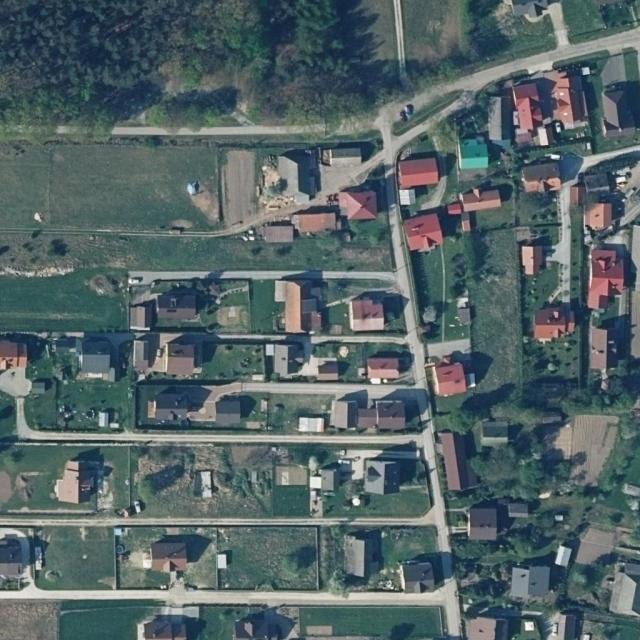aerial-img: (0, 144, 219, 231)
building: (274, 277, 325, 334), (525, 299, 580, 346), (587, 248, 626, 311), (55, 459, 103, 504), (284, 148, 320, 199), (344, 530, 383, 577), (403, 211, 445, 253), (78, 338, 117, 381), (610, 562, 640, 616), (165, 334, 202, 374), (520, 161, 562, 195), (396, 157, 439, 189), (439, 431, 461, 491), (510, 566, 550, 599), (459, 138, 489, 181), (148, 391, 189, 422), (365, 460, 401, 495), (432, 362, 468, 397), (567, 74, 590, 128), (460, 185, 503, 213), (350, 297, 384, 332), (400, 561, 435, 594), (150, 542, 187, 573), (552, 77, 574, 129), (157, 292, 198, 319), (339, 191, 376, 220), (291, 212, 336, 234), (469, 507, 498, 541), (274, 344, 304, 376), (589, 327, 609, 372), (376, 400, 405, 431), (0, 539, 24, 576), (277, 155, 299, 195), (453, 432, 468, 490), (0, 340, 28, 371), (330, 400, 358, 429), (129, 300, 155, 331), (215, 398, 241, 428), (585, 202, 612, 230), (487, 96, 503, 143), (601, 91, 620, 130), (367, 357, 399, 380), (321, 148, 361, 166), (521, 246, 544, 275), (584, 172, 610, 197), (501, 95, 515, 141), (512, 82, 539, 105), (516, 97, 533, 130), (262, 225, 293, 243), (132, 340, 149, 372), (194, 470, 213, 498), (356, 407, 378, 430), (320, 468, 341, 492), (317, 360, 339, 381), (298, 417, 325, 433), (555, 545, 573, 568), (507, 502, 529, 518), (570, 185, 585, 206), (531, 101, 543, 125), (536, 125, 549, 146), (456, 307, 471, 325), (446, 202, 463, 216), (461, 212, 470, 232), (216, 554, 226, 568)
dryland: (542, 398, 625, 492), (222, 150, 256, 226), (575, 525, 618, 569)
greenland: (468, 428, 574, 511), (451, 532, 561, 568), (561, 545, 619, 612), (409, 248, 451, 340), (598, 412, 640, 492), (577, 485, 640, 538), (460, 0, 510, 63), (455, 554, 513, 606), (407, 53, 461, 88), (443, 236, 472, 300), (527, 501, 567, 542)
unmetalled_road: (0, 579, 460, 633), (376, 164, 433, 391), (0, 512, 434, 531), (27, 429, 420, 446), (419, 420, 457, 581), (129, 269, 395, 286), (365, 112, 429, 174), (0, 225, 250, 240), (238, 380, 410, 401), (111, 124, 325, 138), (575, 137, 640, 173), (0, 366, 32, 439), (424, 86, 478, 125), (554, 182, 571, 302), (317, 161, 375, 196), (544, 0, 574, 49), (396, 79, 459, 101), (202, 381, 245, 404), (416, 387, 434, 429), (440, 244, 447, 342), (378, 102, 404, 120), (380, 109, 389, 148)
